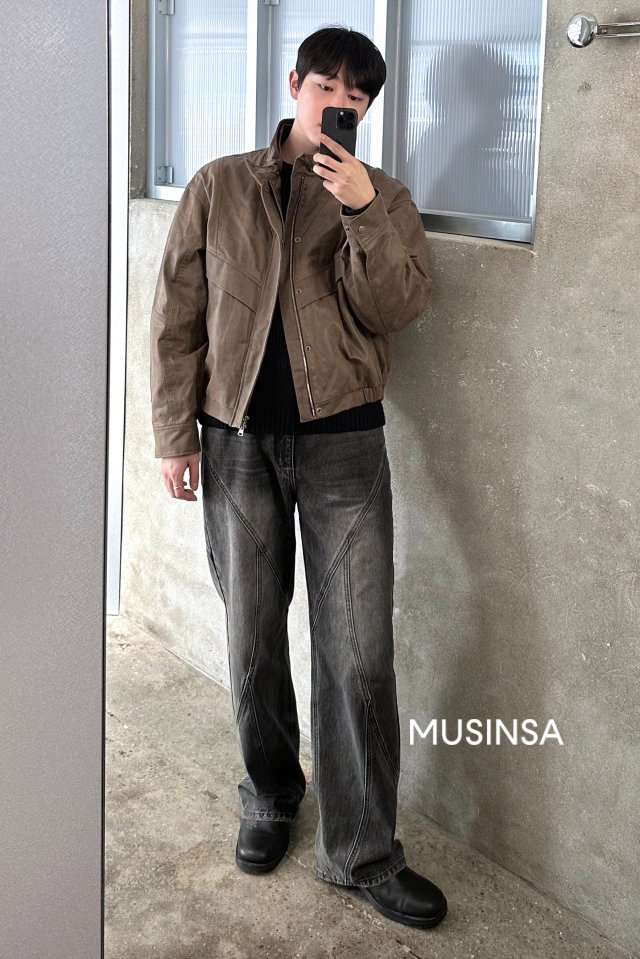Jacket: (154, 118, 434, 432)
Jeans: (189, 413, 412, 885)
Shoes: (226, 808, 456, 939)
